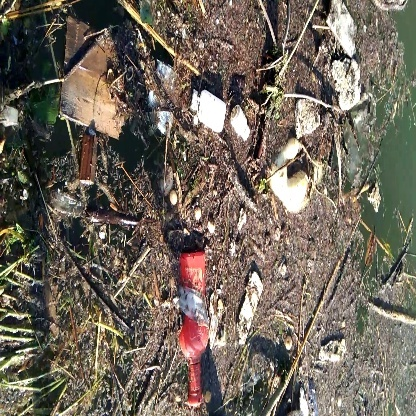bottle: (175, 247, 218, 408)
